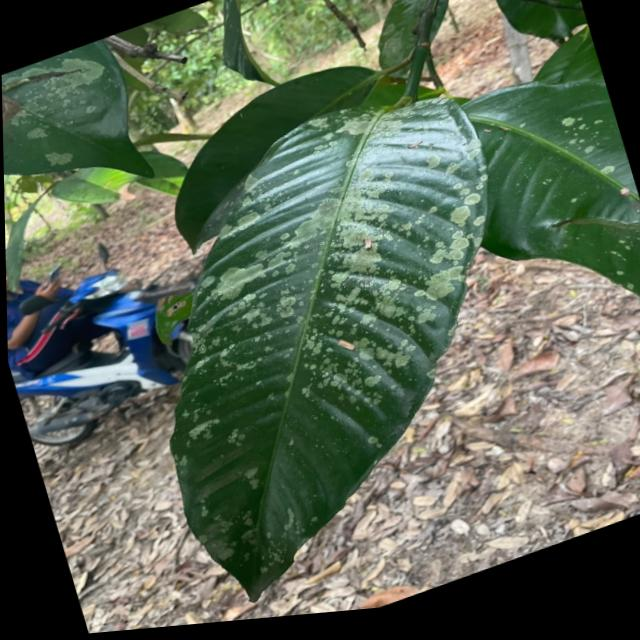Leaf Spot: (149, 121, 525, 451), (540, 88, 640, 253)
